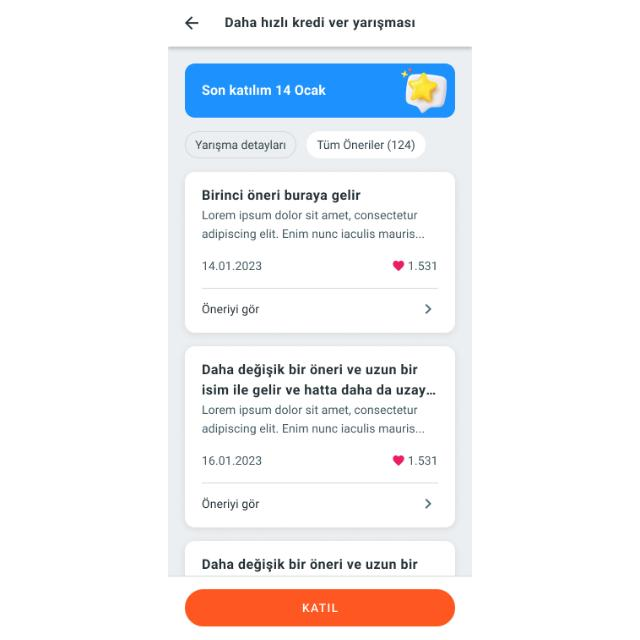QLabel: (196, 359, 437, 396), (198, 400, 428, 436), (195, 210, 431, 242), (199, 556, 421, 572), (198, 186, 362, 204), (215, 16, 417, 30), (198, 83, 326, 97), (316, 138, 416, 152), (198, 300, 264, 318), (193, 140, 289, 152), (200, 496, 262, 512), (200, 260, 264, 272), (200, 454, 264, 466), (300, 602, 340, 614), (408, 453, 438, 467), (409, 259, 437, 273)
VAppBar: (168, 0, 472, 48)
VBtn: (186, 589, 456, 627)
VCard: (183, 345, 457, 529), (185, 171, 458, 335), (187, 64, 458, 120), (186, 540, 457, 574)
VChip: (306, 131, 429, 159), (186, 130, 298, 160)
VDivider: (196, 284, 440, 292), (200, 479, 440, 486)
VFooter: (168, 577, 470, 639)
VIcon: (391, 259, 407, 273), (422, 303, 436, 317), (392, 454, 406, 468), (184, 16, 198, 29), (425, 498, 433, 508)
VImg: (402, 68, 448, 114)
